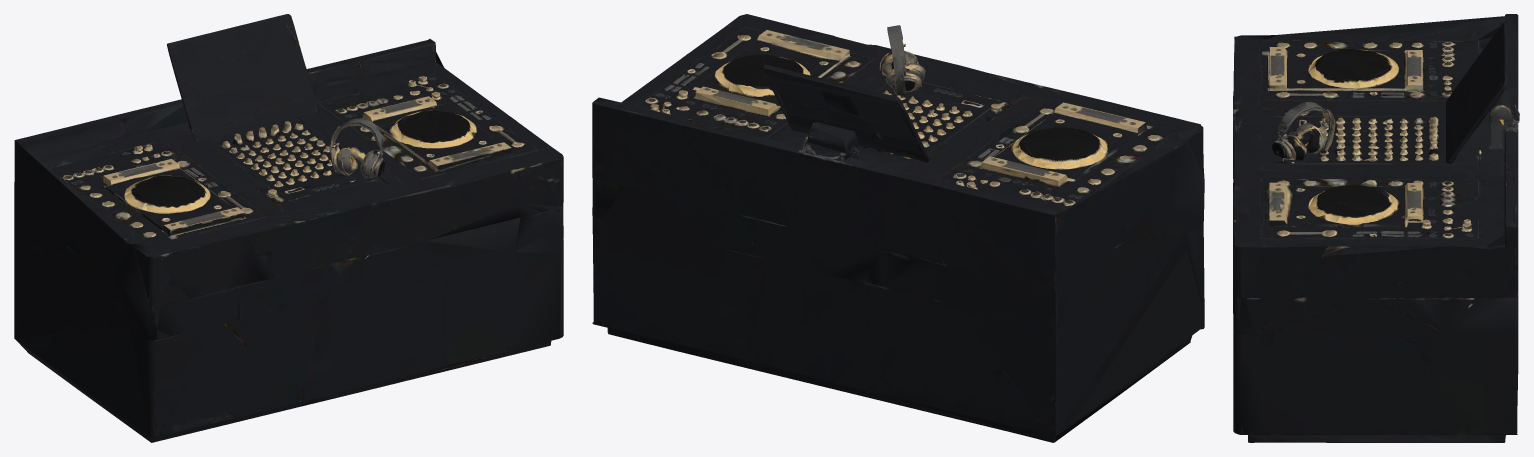
Rendered from djBooth-medio.glb.
3 views of the same model, side by side, from view 1: azimuth 30°, elevation 25°; view 2: azimuth 150°, elevation 25°; view 3: azimuth 270°, elevation 25° (orthographic). The views are drawn at different scales.
Size of the model in its own units: 1.9 by 1.21 by 1.08.
1 material, 1 textured.
